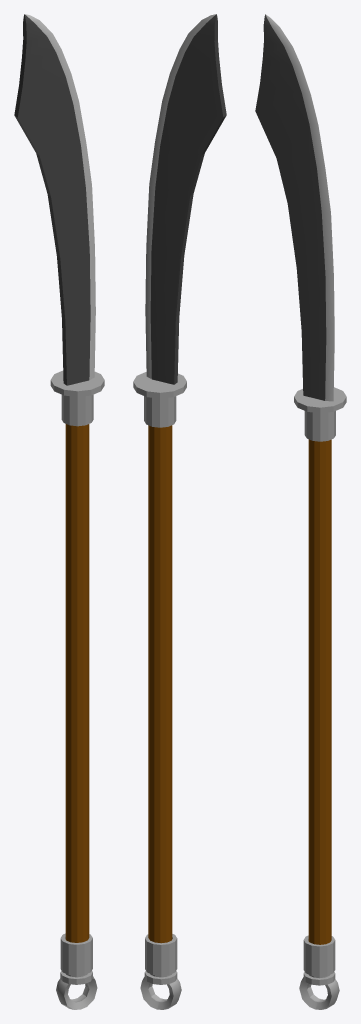
File: Spear_05.fbx
3 views of the same model, side by side, from view 1: azimuth 30°, elevation 25°; view 2: azimuth 150°, elevation 25°; view 3: azimuth 330°, elevation 25° (orthographic). The views are drawn at different scales.
Parts seen in each view (by area): view 1: Spear_05; view 2: Spear_05; view 3: Spear_05.
Boxes of the visible parts, x1=… form: Spear_05: x1=14, y1=14, x2=104, y2=1009; Spear_05: x1=133, y1=14, x2=226, y2=1009; Spear_05: x1=255, y1=14, x2=346, y2=1009.
Bounding box in the file's own units: 1.68 × 18.68 × 0.9067.
